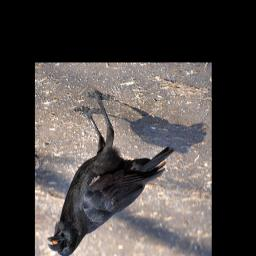Crow: (47, 89, 175, 256)
